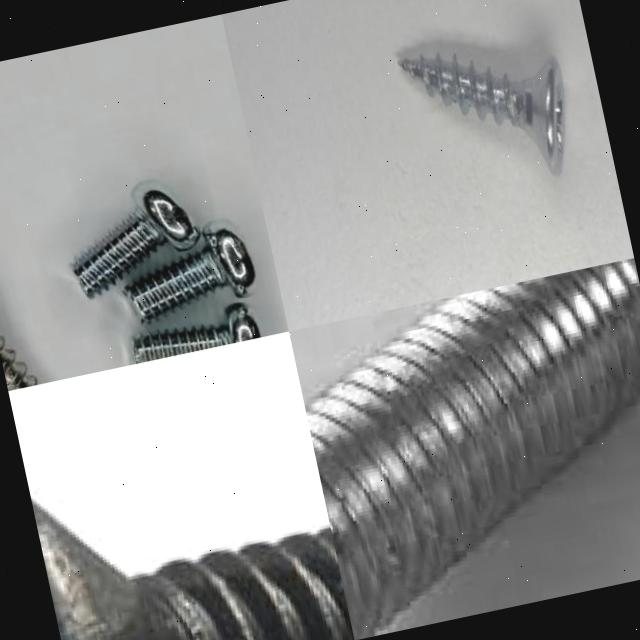Screw: (303, 258, 640, 640), (30, 496, 354, 640), (398, 53, 564, 174), (74, 181, 200, 297), (125, 229, 257, 320), (135, 305, 262, 363)
